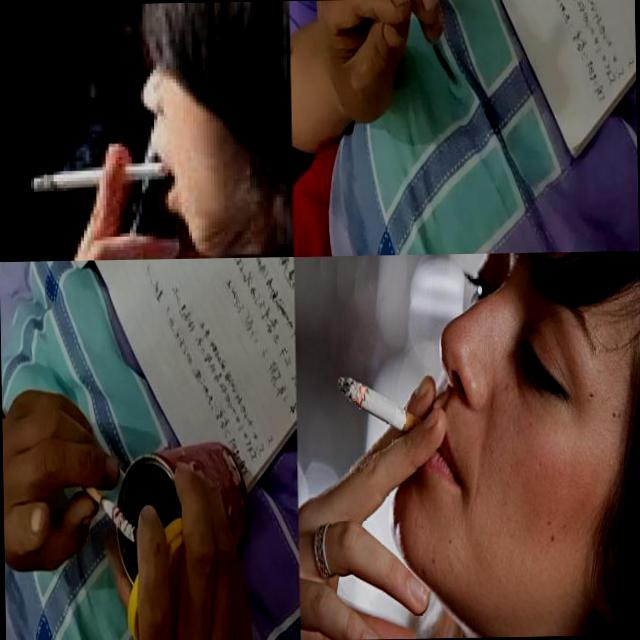smoke: (23, 148, 178, 202), (336, 373, 431, 438), (82, 481, 134, 544)
